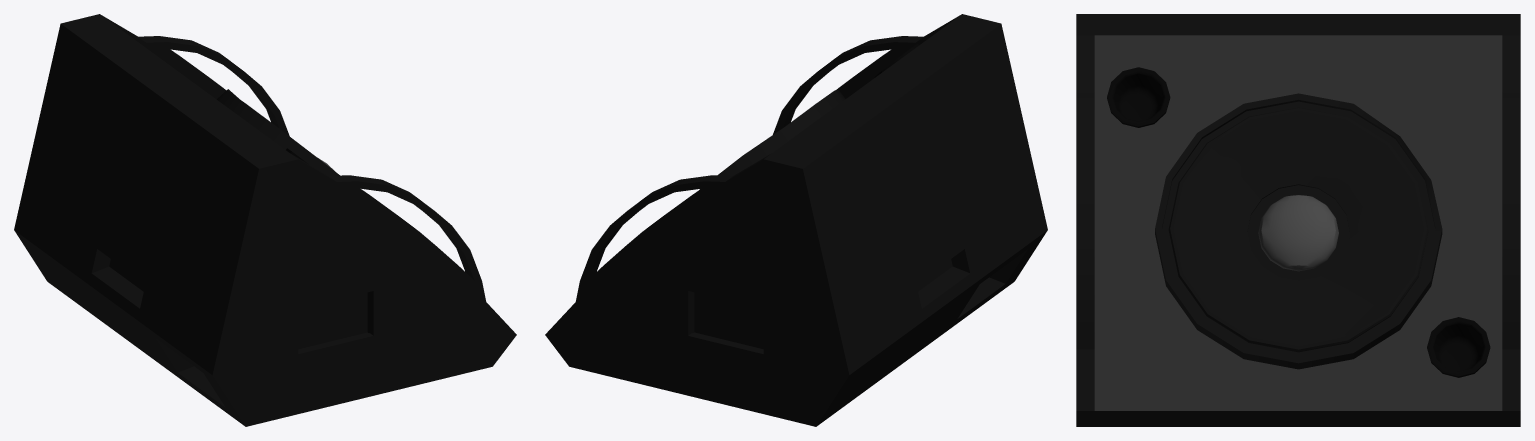
Rendered from Venue_Speaker_01.glb.
The picture shows the model from 3 angles, left to right: view 1: azimuth 30°, elevation 25°; view 2: azimuth 150°, elevation 25°; view 3: azimuth 270°, elevation 25°; orthographic projection. The views are drawn at different scales.
Parts seen in each view (by area): view 1: Mesh_Venue_Speaker_01; view 2: Mesh_Venue_Speaker_01; view 3: Mesh_Venue_Speaker_01.
Part boxes in pixels (<box>): Mesh_Venue_Speaker_01: <box>14,14,516,426</box>; Mesh_Venue_Speaker_01: <box>545,14,1047,426</box>; Mesh_Venue_Speaker_01: <box>1076,14,1520,426</box>.
Size of the model in its own units: 0.5313 by 0.425 by 0.6.
Materials: 1 (1 with a texture image).
